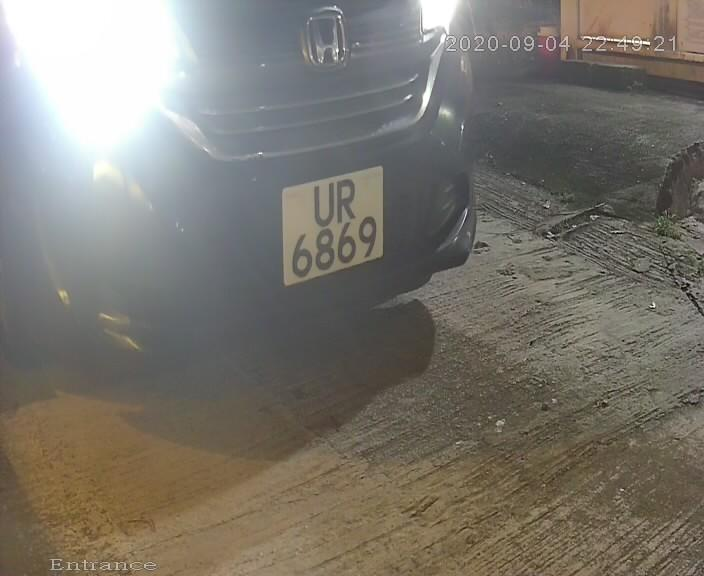License Plate: (277, 155, 387, 296)
